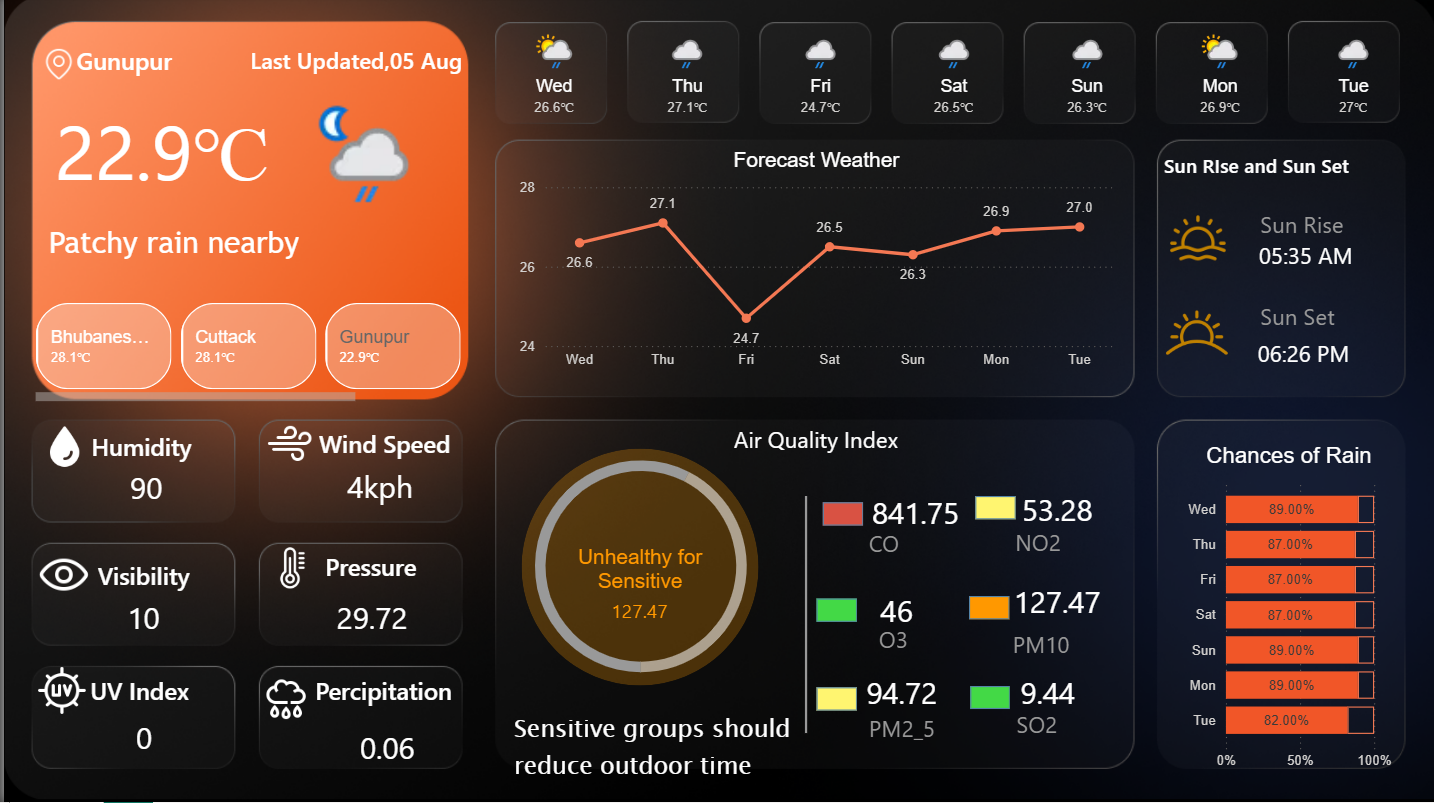

The dashboard page shown, as its layout file describes it:
{"tool":"powerbi","page":{"name":"Page 1","canvas":[1280,720],"ordinal":0},"visuals":[{"type":"shape","box":[462.5,404,211.8,211.8],"z":0},{"type":"advancedSlicerVisual","fields":{"Values":["Locations.location.name"]},"box":[23.3,269,391.1,100.2],"z":1000},{"type":"shape","box":[40.4,181.1,228.5,78],"z":2000},{"type":"shape","box":[64.5,35.7,179.8,43.9],"z":3000},{"type":"shape","box":[219.6,38.4,194.9,37],"z":4000},{"type":"image","box":[23.3,42.5,50.8,37],"z":5000},{"type":"cardVisual","fields":{"Data":["Min(current.current.condition.icon)"]},"box":[248,61.3,137.9,165.8],"z":6000},{"type":"image","box":[24.9,379,58.5,48.3],"z":7000},{"type":"shape","box":[78.2,384.2,122.1,37],"z":8000},{"type":"image","box":[23.4,487.2,60,60],"z":9000},{"type":"shape","box":[83.4,499,122.9,36.6],"z":10000},{"type":"shape","box":[280.9,380.4,122.9,36.6],"z":11000},{"type":"shape","box":[286.8,491.6,121.4,36.6],"z":12000},{"type":"shape","box":[77.5,601.4,112.7,36.6],"z":13000},{"type":"shape","box":[278,601.4,152.2,36.6],"z":14000},{"type":"image","box":[24.3,590.7,54.2,59.8],"z":15000},{"type":"image","box":[219.5,374.6,70.2,51.2],"z":16000},{"type":"image","box":[234.1,481.4,46.8,58.5],"z":17000},{"type":"image","box":[219.5,601.4,64.4,52.7],"z":18000},{"type":"card","fields":{"Values":["Sum(current.current.humidity)"]},"box":[64.5,403.4,124.9,74.1],"z":19000},{"type":"card","fields":{"Values":["Measures_.Wind_Speed"]},"box":[293.9,411,85,57.1],"z":20000},{"type":"card","fields":{"Values":["Sum(current.current.pressure_in)"]},"box":[279.5,518,99.5,76.1],"z":21000},{"type":"card","fields":{"Values":["Sum(current.current.uv)"]},"box":[96.6,627.7,58.5,71.7],"z":22000},{"type":"card","fields":{"Values":["Sum(current.current.vis_km)"]},"box":[95.1,525.3,60,62.9],"z":23000},{"type":"card","fields":{"Values":["Sum(current.current.precip_mm)"]},"box":[310.2,638,64.4,70.2],"z":24000},{"type":"lineChart","title":"Forecast Weather","fields":{"Y":["Sum(forecast_day.forecast.forecastday.day.avgtemp_c)"],"Category":["forecast_day.DayName"]},"box":[455.2,135.9,540.3,204.7],"z":25000},{"type":"advancedSlicerVisual","fields":{"Values":["forecast_day.DayName"]},"box":[430.5,12.8,837,123.2],"z":26000},{"type":"shape","box":[1035.8,135.1,231.6,32.2],"z":27000},{"type":"shape","box":[1122.7,186.6,122.2,32.2],"z":28000},{"type":"shape","box":[1119.5,300.8,123.9,35.4],"z":29000},{"type":"shape","box":[1121.1,213.9,122.2,32.2],"z":30000},{"type":"shape","box":[1122.7,268.6,122.2,32.2],"z":31000},{"type":"image","box":[1010.1,186.6,112.6,59.5],"z":32000},{"type":"image","box":[1013.3,259,106.2,83.6],"z":33000},{"type":"hundredPercentStackedBarChart","title":"Chances of Rain","fields":{"Y":["Sum(forecast_day.forecast.forecastday.day.daily_chance_of_rain)","current.Left_Value_Rain"],"Category":["forecast_day.DayName"]},"box":[1050.5,398.1,194.4,300.9],"z":34000},{"type":"shape","box":[652.3,379.4,289.7,31.8],"z":35000},{"type":"card","fields":{"Values":["Sum(current.current.air_quality.co)"]},"box":[767.6,431.9,94.7,59.9],"z":36000},{"type":"card","fields":{"Values":["Sum(current.current.air_quality.o3)"]},"box":[753.7,522.4,87.8,54.3],"z":37000},{"type":"card","fields":{"Values":["Sum(current.current.air_quality.no2)"]},"box":[893.5,429.9,95.3,59.8],"z":38000},{"type":"card","fields":{"Values":["Sum(current.current.air_quality.pm10)"]},"box":[893.5,512.2,95.3,59.8],"z":39000},{"type":"card","fields":{"Values":["Sum(current.current.air_quality.pm2_5)"]},"box":[755.1,593.5,94.7,59.9],"z":40000},{"type":"card","fields":{"Values":["Sum(current.current.air_quality.so2)"]},"box":[876.6,601.9,112.2,43],"z":41000},{"type":"shape","box":[773.2,461.1,90.6,52.9],"z":42000},{"type":"shape","box":[902.8,467.3,110.3,41.1],"z":43000},{"type":"shape","box":[781.5,557.3,121.2,32],"z":44000},{"type":"shape","box":[490.4,490.4,156,43.2],"z":45000},{"type":"shape","box":[773.2,638.1,111.5,30.6],"z":46000},{"type":"shape","box":[904.7,629.9,110.3,41.1],"z":47000},{"type":"shape","box":[863.6,616.8,35.5,20.6],"z":48000},{"type":"shape","box":[725.8,617.2,36.2,20.9],"z":49000},{"type":"shape","box":[30.6,80.8,221.5,112.8],"z":50000},{"type":"shape","box":[731.4,452.8,36.2,20.9],"z":51000},{"type":"shape","box":[725.8,537.7,36.2,20.9],"z":52000},{"type":"shape","box":[867.9,447.2,36.2,20.9],"z":53000},{"type":"shape","box":[862.3,536.4,36.2,20.9],"z":54000},{"type":"shape","box":[650.6,447.2,131,211.8],"z":55000},{"type":"card","fields":{"Values":["Sum(current.current.air_quality.pm10)"]},"box":[530.8,529.4,75.2,43.2],"z":56000},{"type":"donutChart","fields":{"Y":["Measures_.Left_Value_PM10","Sum(current.current.air_quality.pm10)"]},"box":[438.8,385.9,260.5,246.6],"z":57000},{"type":"shape","box":[901.4,564.2,65.5,29.3],"z":58000},{"type":"shape","box":[455.6,635.3,260.5,72.4],"z":59000}]}

Visuals, with their boxes in screenshot pixels (x1, y1, x2, y2), scaled from the page's 1280x720 canvas onto the 1434x803 screenshot:
shape: box=[518, 451, 755, 687]
advancedSlicerVisual - Locations.location.name: box=[26, 300, 464, 412]
shape: box=[45, 202, 301, 289]
shape: box=[72, 40, 274, 89]
shape: box=[246, 43, 464, 84]
image: box=[26, 47, 83, 89]
cardVisual - Min(current.current.condition.icon): box=[278, 68, 432, 253]
image: box=[28, 423, 93, 477]
shape: box=[88, 428, 224, 470]
image: box=[26, 543, 93, 610]
shape: box=[93, 557, 231, 597]
shape: box=[315, 424, 452, 465]
shape: box=[321, 548, 457, 589]
shape: box=[87, 671, 213, 712]
shape: box=[311, 671, 482, 712]
image: box=[27, 659, 88, 725]
image: box=[246, 418, 325, 475]
image: box=[262, 537, 315, 602]
image: box=[246, 671, 318, 730]
card - Sum(current.current.humidity): box=[72, 450, 212, 533]
card - Measures_.Wind_Speed: box=[329, 458, 424, 522]
card - Sum(current.current.pressure_in): box=[313, 578, 425, 663]
card - Sum(current.current.uv): box=[108, 700, 174, 780]
card - Sum(current.current.vis_km): box=[107, 586, 174, 656]
card - Sum(current.current.precip_mm): box=[348, 712, 420, 790]
"Forecast Weather" lineChart: box=[510, 152, 1115, 380]
advancedSlicerVisual - forecast_day.DayName: box=[482, 14, 1420, 152]
shape: box=[1160, 151, 1420, 187]
shape: box=[1258, 208, 1395, 244]
shape: box=[1254, 335, 1393, 375]
shape: box=[1256, 239, 1393, 274]
shape: box=[1258, 300, 1395, 335]
image: box=[1132, 208, 1258, 274]
image: box=[1135, 289, 1254, 382]
"Chances of Rain" hundredPercentStackedBarChart: box=[1177, 444, 1395, 780]
shape: box=[731, 423, 1055, 459]
card - Sum(current.current.air_quality.co): box=[860, 482, 966, 548]
card - Sum(current.current.air_quality.o3): box=[844, 583, 943, 643]
card - Sum(current.current.air_quality.no2): box=[1001, 479, 1108, 546]
card - Sum(current.current.air_quality.pm10): box=[1001, 571, 1108, 638]
card - Sum(current.current.air_quality.pm2_5): box=[846, 662, 952, 729]
card - Sum(current.current.air_quality.so2): box=[982, 671, 1108, 719]
shape: box=[866, 514, 968, 573]
shape: box=[1011, 521, 1135, 567]
shape: box=[876, 622, 1011, 657]
shape: box=[549, 547, 724, 595]
shape: box=[866, 712, 991, 746]
shape: box=[1014, 703, 1137, 748]
shape: box=[968, 688, 1007, 711]
shape: box=[813, 688, 854, 712]
shape: box=[34, 90, 282, 216]
shape: box=[819, 505, 860, 528]
shape: box=[813, 600, 854, 623]
shape: box=[972, 499, 1013, 522]
shape: box=[966, 598, 1007, 622]
shape: box=[729, 499, 876, 735]
card - Sum(current.current.air_quality.pm10): box=[595, 590, 679, 639]
donutChart - Measures_.Left_Value_PM10 x Sum(current.current.air_quality.pm10): box=[492, 430, 783, 705]
shape: box=[1010, 629, 1083, 662]
shape: box=[510, 709, 802, 789]
